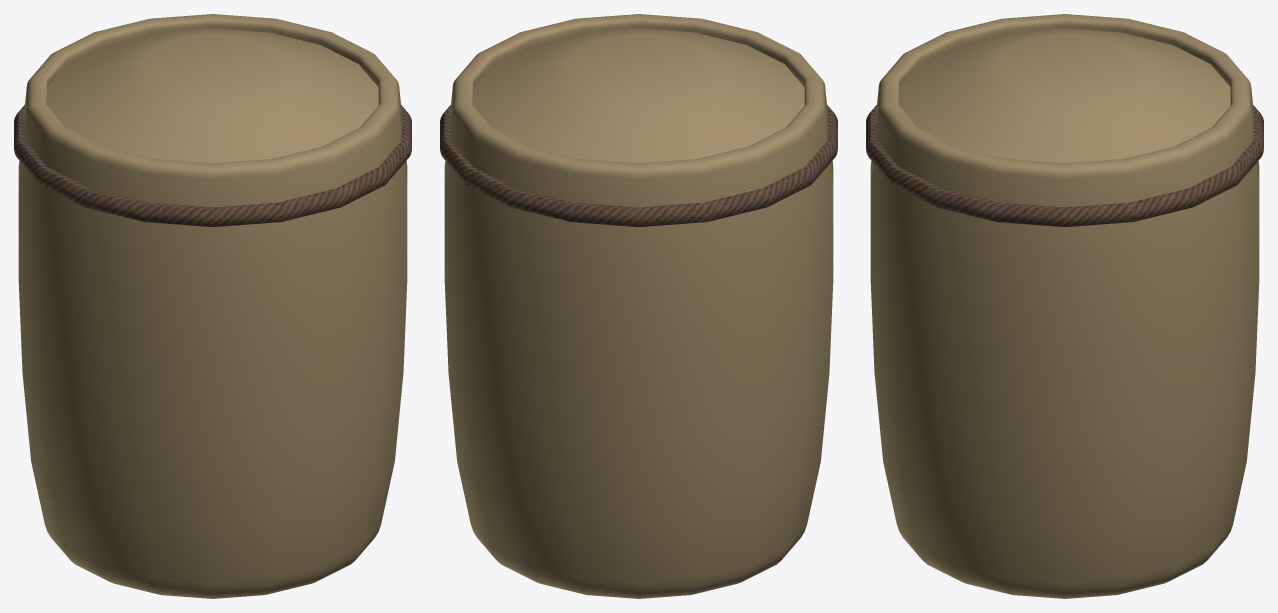
File: basket.glb
3 views of the same model, side by side, from view 1: azimuth 30°, elevation 25°; view 2: azimuth 150°, elevation 25°; view 3: azimuth 270°, elevation 25° (orthographic).
Visible parts, largest first — view 1: Basket; view 2: Basket; view 3: Basket.
Boxes of the visible parts, box(x1,y1,x2,y2) form: Basket: box(14, 14, 411, 598); Basket: box(440, 14, 837, 598); Basket: box(866, 14, 1263, 598).
Size of the model in its own units: 52.02 by 67.37 by 51.23.
Materials: 3 (3 with a texture image).
